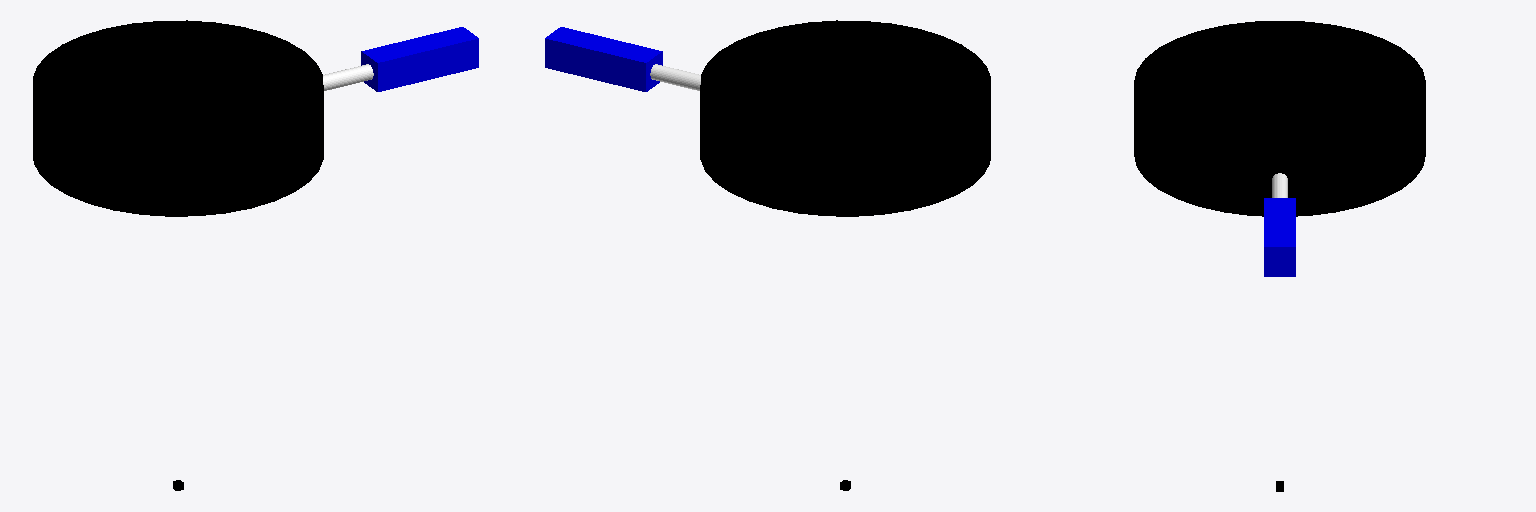
The robot description file, URDF, robot "hexapod":
<?xml version="1.0"?>

<robot name="hexapod">

<link name="base_link">
  <visual>
   <geometry>
      <box size="0.01 0.01 0.01"/>
   </geometry>
   <material name="black">
     <color rgba="0 0 0 100"/>
   </material>
  </visual>
</link>
<!--body-->
<link name="body">
  
<visual>
   <geometry>
     <cylinder length="0.1" radius="0.18"/>
   </geometry>
   <material name="black">
     <color rgba="0 0 0 100"/>
   </material>
  </visual>
   
 <collision>
      <origin xyz="0 0 0" rpy="0 0 0"/>
      <geometry>
     <cylinder length="0.1" radius="0.18"/>
      </geometry>
    </collision>

<inertial>
      <origin xyz="0 0 0" rpy="0 0 0"/>
      <mass value="1"/>
      <inertia
        ixx="0.01" ixy="0.0" ixz="0.0"
        iyy="0.01" iyz="0.0"
        izz="0.01"/>
    </inertial>
</link>
  <gazebo reference="body">
    <material>Gazebo/Blue</material>
  </gazebo>

<joint name="body" type="fixed">
  <axis xyz="0 0 1"/>
  <parent link="base_link"/>
  <child link="body"/>
  <origin rpy="0 0 0" xyz="0 0 0.5"/>
</joint>


<!--first-leg-->
<link name="bridge1">
  <visual>
    <origin xyz="0 0 0.0465" rpy="0 0 0"/>
    <geometry>
      <cylinder length="0.093" radius="0.01"/>
    </geometry>
    <material name="white">
      <color rgba="255 255 255 1"/>
    </material>
  </visual>
  <inertial>
      <origin xyz="0 0 0.0465" rpy="0 0 0"/>
      <mass value="1"/>
      <inertia
        ixx="0.01" ixy="0.0" ixz="0.0"
        iyy="0.01" iyz="0.0"
        izz="0.01"/>
    </inertial>
  <collision>
    <origin xyz="0 0 0.0465" rpy="0 0 0"/>
    <geometry>
      <cylinder length="0.093" radius="0.01"/>
    </geometry>
  </collision>
</link>
  <gazebo reference="bridge1">
    <material>Gazebo/white</material>
  </gazebo>
<joint name="bridge1" type="fixed">
  <axis xyz="0 0 1"/>
  <parent link="body"/>
  <child link="bridge1"/>
  <origin rpy="0 1.57075 0" xyz="0.18 0 0"/>
</joint>





    
<link name="leg1_roll">
  <visual>
    <origin xyz="-0.072445 0 0" rpy="0 0 0"/>
    <geometry>
      <box size="0.14489 0.04 0.04"/>
    </geometry>
    <material name="blue">
      <color rgba="0 0 255 1"/>
    </material>
  </visual>
  <inertial>
    <origin xyz="-0.072445 0 0" rpy="0 0 0"/>
      <mass value="1"/>
      <inertia
        ixx="0.01" ixy="0.0" ixz="0.0"
        iyy="0.01" iyz="0.0"
        izz="0.01"/>
    </inertial>
  <collision>
    <origin xyz="-0.072445 0 0" rpy="0 0 0"/>
    <geometry>
      <box size="0.14489 0.04 0.04"/>
    </geometry>
  </collision>
</link>
  <gazebo reference="leg1_roll">
    <material>Gazebo/Blue</material>
  </gazebo>
<joint name="leg1_roll" type="revolute">
  <axis xyz="0 0 1"/>
  <limit effort="300" lower="-0.78540" upper="0.78540" velocity="1"/>
  <parent link="bridge1"/>
  <child link="leg1_roll"/>
  <origin rpy="0 1.57075 0" xyz="0 0 0.093"/>
</joint>

  <transmission name="tran1">
    <type>transmission_interface/SimpleTransmission</type>
    <joint name="leg1_roll">
      <hardwareInterface>EffortJointInterface</hardwareInterface>
    </joint>
    <actuator name="leg1_roll_motor">
      <hardwareInterface>EffortJointInterface</hardwareInterface>
      <mechanicalReduction>1</mechanicalReduction>
    </actuator>
  </transmission>
  <gazebo>
     <plugin name="gazebo_ros_control" filename="libgazebo_ros_control.so">
       <robotNamespace>/hexapod</robotNamespace>
     </plugin>
  </gazebo>
  <gazebo>
     <plugin name="joint_state_publisher" filename="libgazebo_ros_joint_state_publisher.so">
       <jointName>leg1_roll</jointName>
     </plugin>
  </gazebo>




</robot>

--- What the picture shows (computed from the rendered views, not written in the file) ---
The picture shows the robot from 3 angles, left to right: view 1: azimuth 30°, elevation 25°; view 2: azimuth 150°, elevation 25°; view 3: azimuth 270°, elevation 25°; orthographic projection.
Model hexapod with 4 links and 3 joints (1 revolute, 2 fixed), rooted at base_link, posed all joints at 0.
Visible links, largest first — view 1: body, leg1_roll, bridge1; view 2: body, leg1_roll, bridge1; view 3: body, leg1_roll.
Boxes of the visible links, box(x1,y1,x2,y2) form: body: box(33, 20, 323, 216); leg1_roll: box(361, 27, 478, 91); bridge1: box(323, 64, 373, 90); body: box(700, 20, 990, 216); leg1_roll: box(545, 27, 662, 91); bridge1: box(650, 64, 700, 90); body: box(1134, 21, 1425, 216); leg1_roll: box(1264, 198, 1295, 276).
Size in the robot's own frame: 0.5979 by 0.36 by 0.555 metres.
Geometry: primitives only (box / cylinder / sphere), no mesh files.